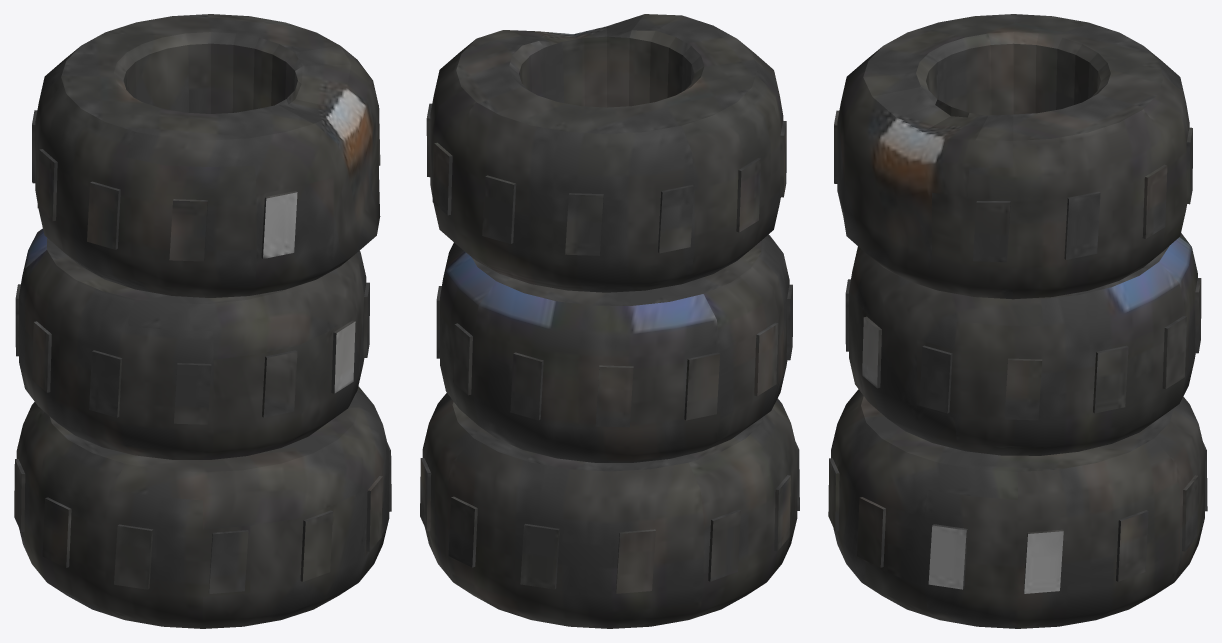
Rendered from JV23_tyre_stacks_v2.glb.
3 renders of one model, left to right at view 1: azimuth 30°, elevation 25°; view 2: azimuth 150°, elevation 25°; view 3: azimuth 270°, elevation 25°, orthographic.
Visible parts, largest first — view 1: Tyre Stack - Crushed; view 2: Tyre Stack - Crushed; view 3: Tyre Stack - Crushed.
Part boxes in pixels (x1,y1,x2,y2): Tyre Stack - Crushed: (14, 14, 391, 628); Tyre Stack - Crushed: (420, 14, 799, 628); Tyre Stack - Crushed: (828, 14, 1207, 628).
Bounding box in the file's own units: 0.8311 × 1.2 × 0.8311.
Materials: 5 (5 with a texture image).
